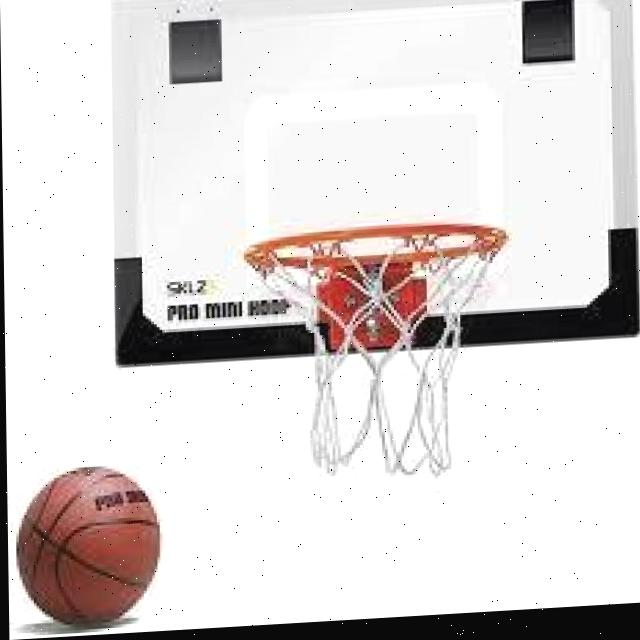Basketball: (15, 464, 161, 631)
